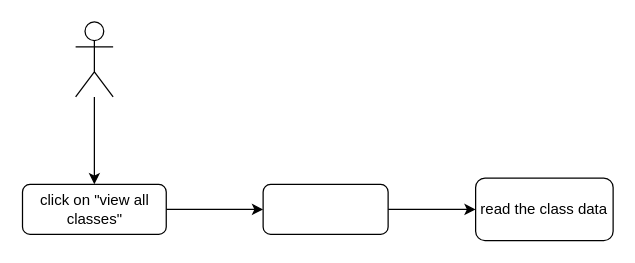
Some shapes in this 635 by 263 pixel diagram are drawn without their labels. Each missing label, with the centre of its shape:
"Admin" belongs at point (93, 59).
"choose one class" belongs at point (325, 208).
